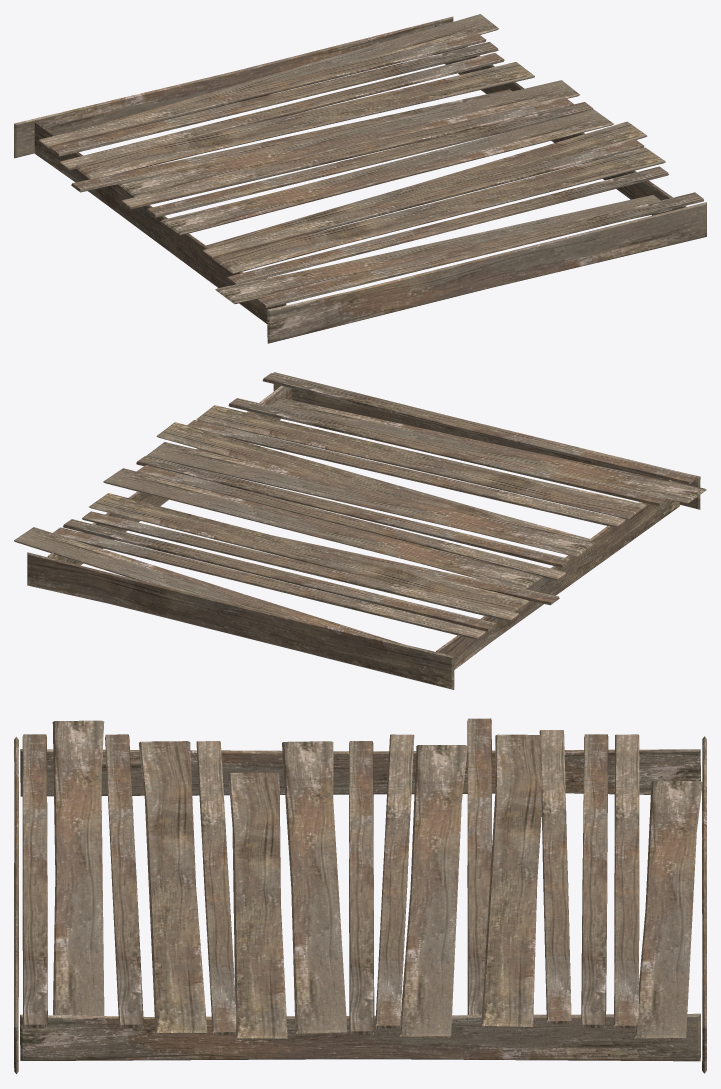
Rendered from SM_Gangway_03.fbx.
3 views of the same model, one above another, from view 1: azimuth 30°, elevation 25°; view 2: azimuth 150°, elevation 25°; view 3: azimuth 270°, elevation 25° (orthographic). The views are drawn at different scales.
Parts seen in each view (by area): view 1: SM_Gangway_03; view 2: SM_Gangway_03; view 3: SM_Gangway_03.
Part boxes in pixels (x1=…): SM_Gangway_03: x1=14, y1=14, x2=706, y2=343; SM_Gangway_03: x1=14, y1=372, x2=706, y2=689; SM_Gangway_03: x1=14, y1=718, x2=706, y2=1073.
Size of the model in its own units: 439 by 403 by 33.14.
